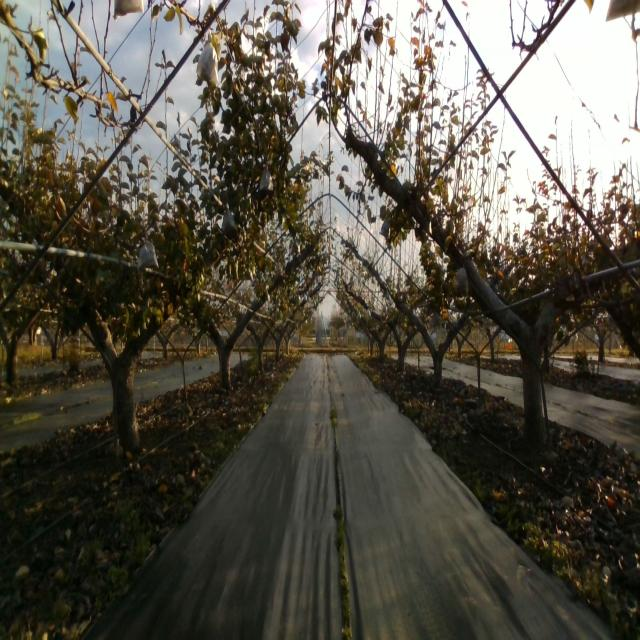pearbags: (196, 34, 218, 88), (137, 233, 159, 271), (222, 202, 238, 236), (452, 263, 468, 297), (260, 162, 274, 192), (378, 218, 391, 240)
